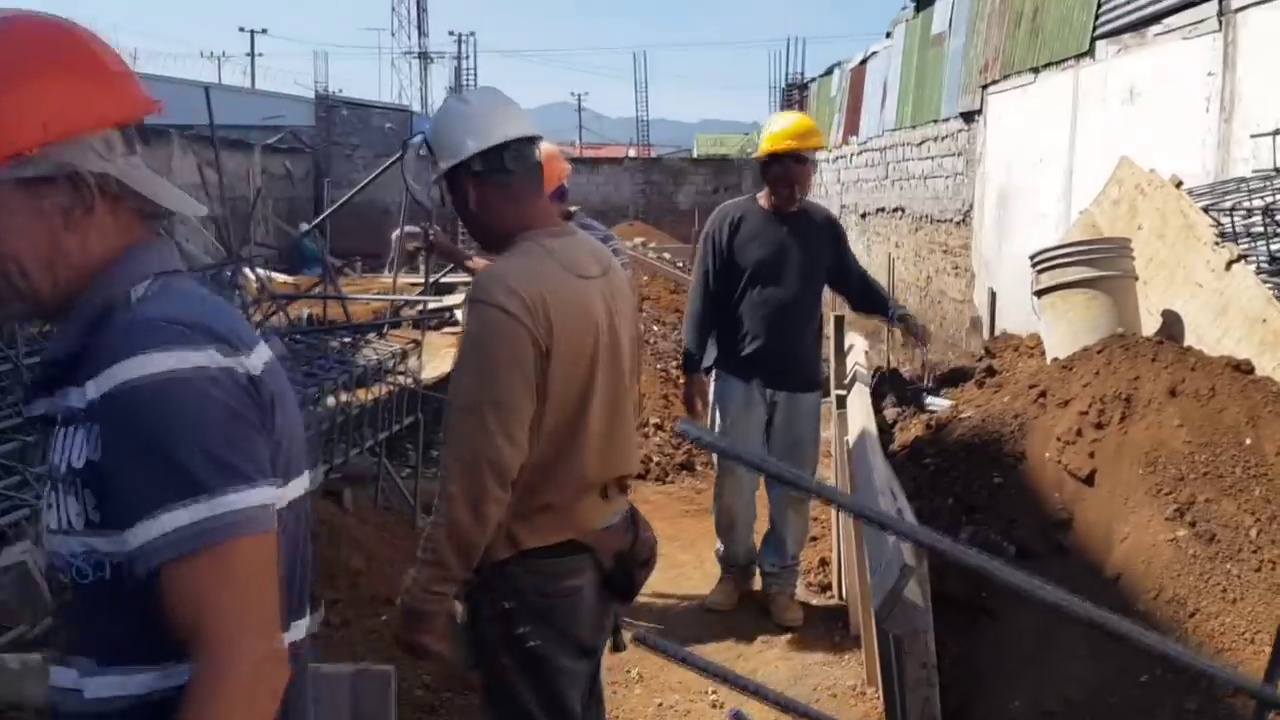helmet: (0, 21, 165, 186), (416, 87, 546, 183), (754, 107, 830, 164), (535, 138, 571, 197)
helmet-on: (4, 20, 174, 329), (414, 88, 566, 253), (754, 109, 829, 212), (531, 138, 581, 224)
person: (0, 20, 298, 718), (389, 92, 651, 720), (671, 107, 909, 639)
